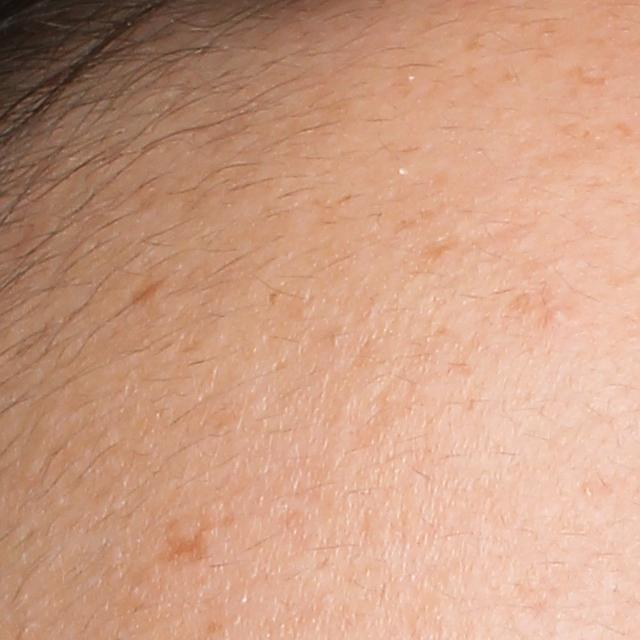comedo: (547, 301, 573, 326), (579, 484, 594, 500)
